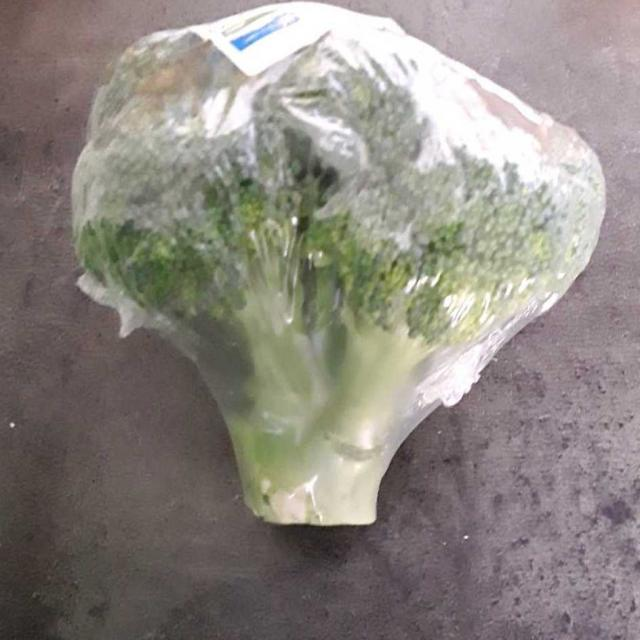broccoli: (82, 23, 597, 524)
